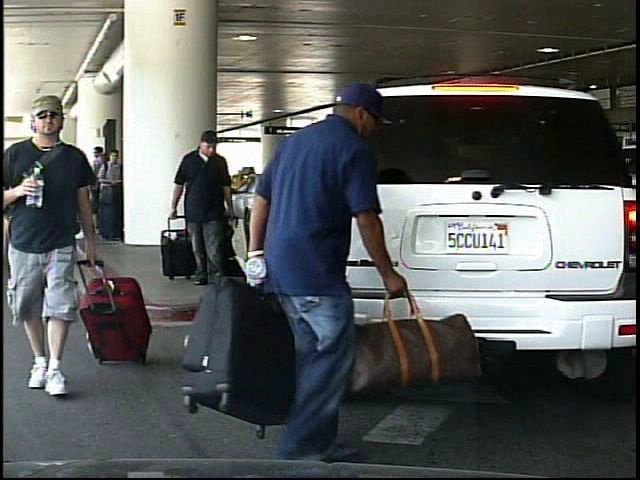person: (240, 76, 405, 469), (9, 97, 108, 402), (172, 129, 238, 278)
